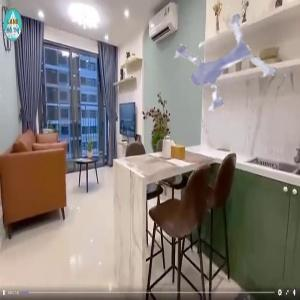drone: (154, 10, 276, 132)
